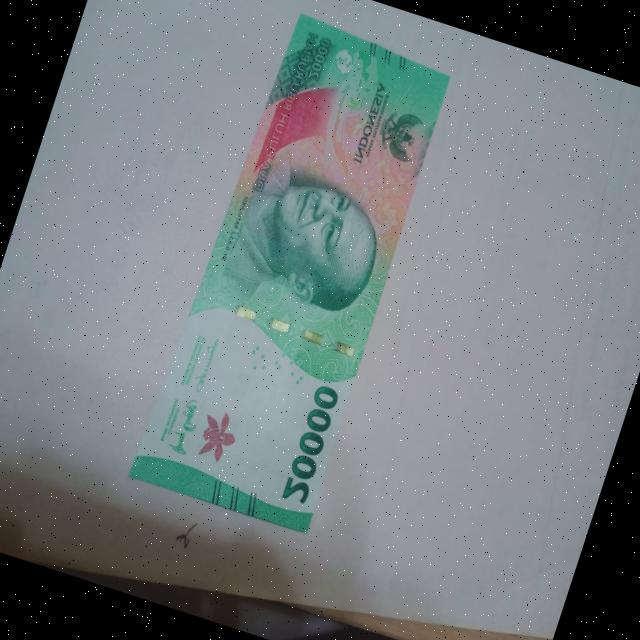20K: (117, 0, 467, 546)
